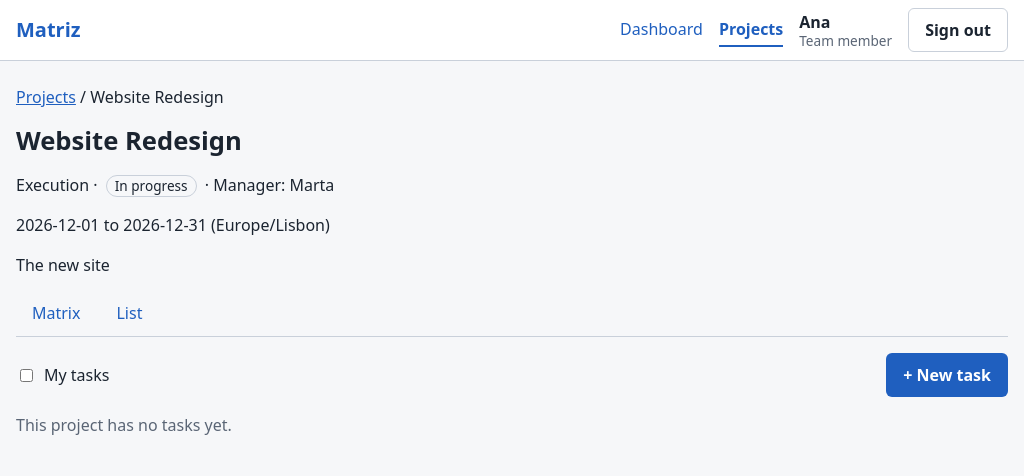
Test case: the project and its tasks (F02, F04, F05, F22) › has only "My tasks" in the Matrix, and keeps it when changing tab
The width and height of the screenshot is (1024, 476).
Expected: the text "This project has no tasks yet." is shown, [16,414,232,436]
Expected: the field labelled "Status" is not shown
Click the checkbox labelled "My tasks".
click(26, 375)  # box [20,369,33,382]
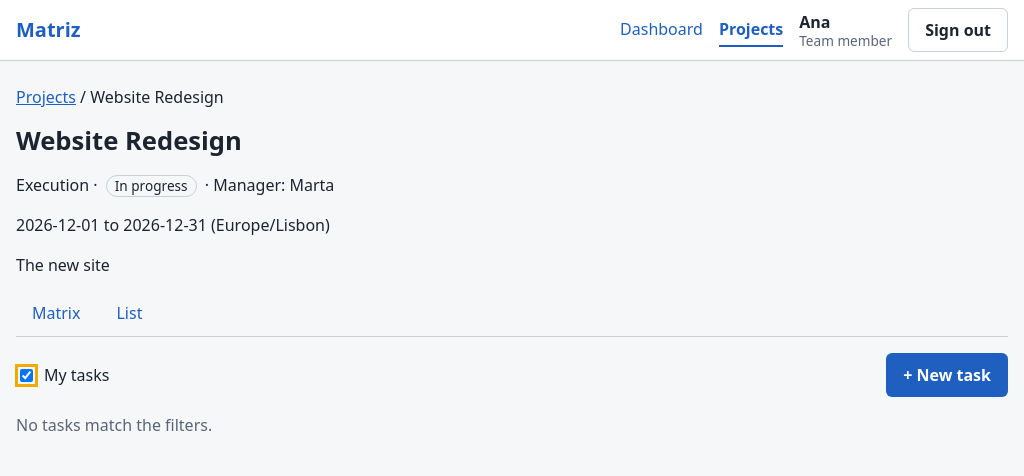
Click the link "List".
click(130, 313)  # box [116,302,142,324]
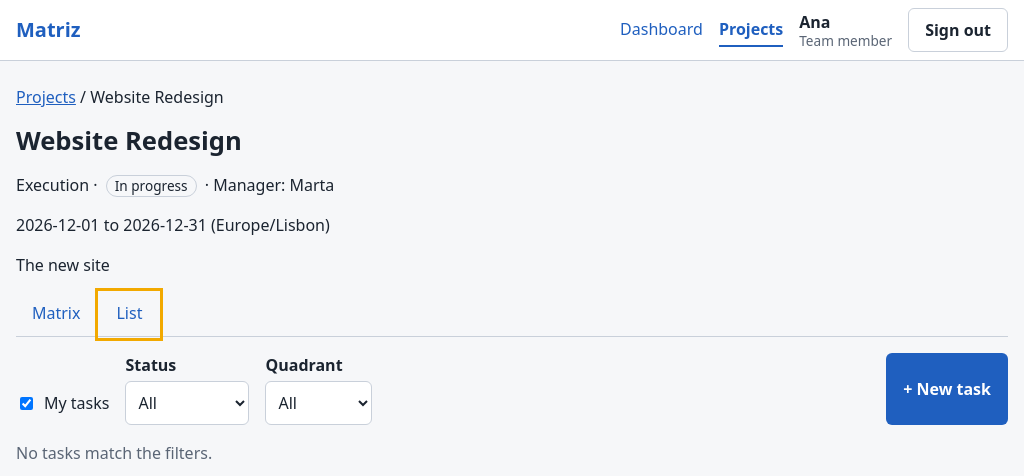
Now the checkbox labelled "My tasks" is checked, box [20,397,33,410]
Now the dropdown labelled "Status" is shown, box [126,381,250,425]
